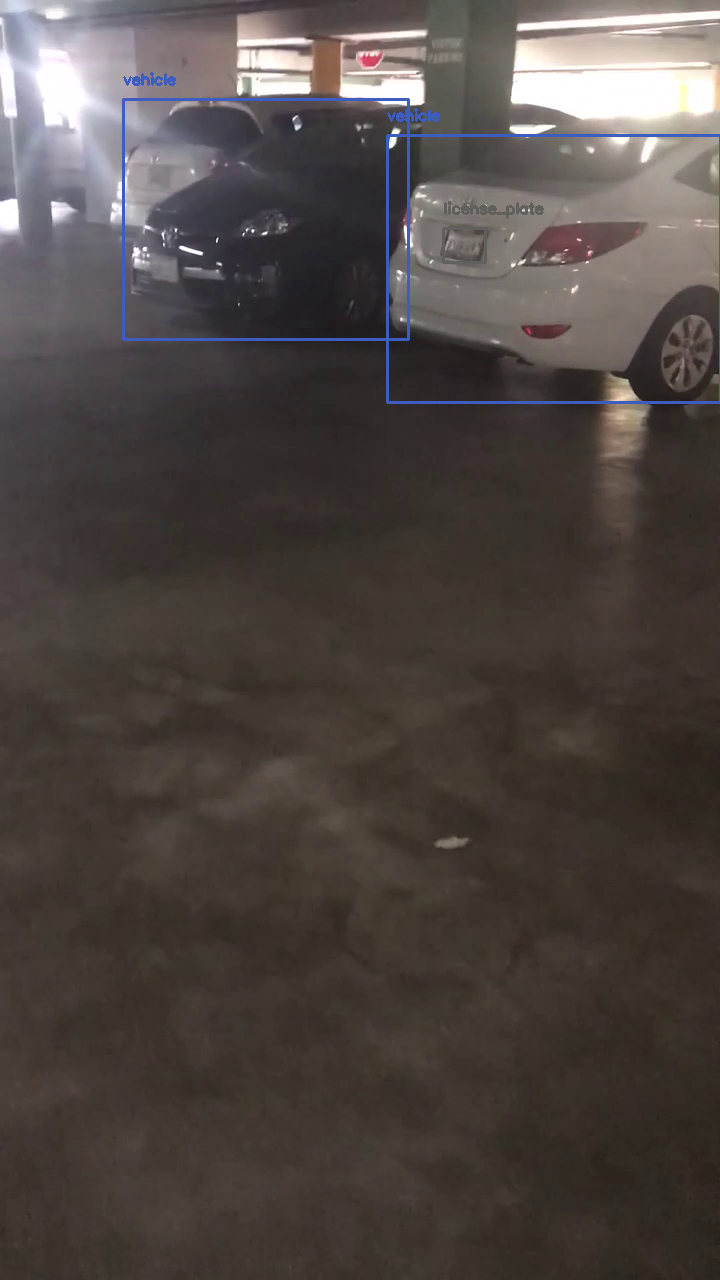license_plate: (443, 228, 485, 262)
vehicle: (387, 135, 720, 402), (123, 99, 408, 339)
